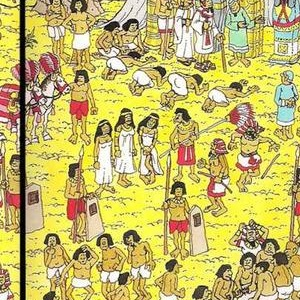Charlie: (140, 123, 160, 177)
